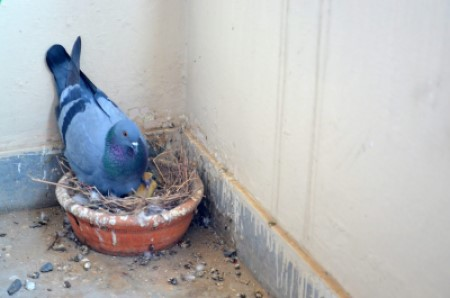pigeon: (43, 35, 151, 198)
